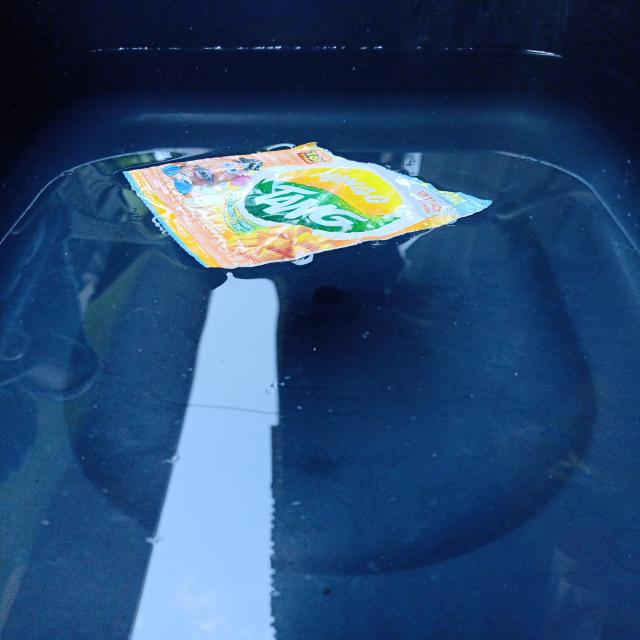Plastic Wrapper: (105, 146, 495, 282)
